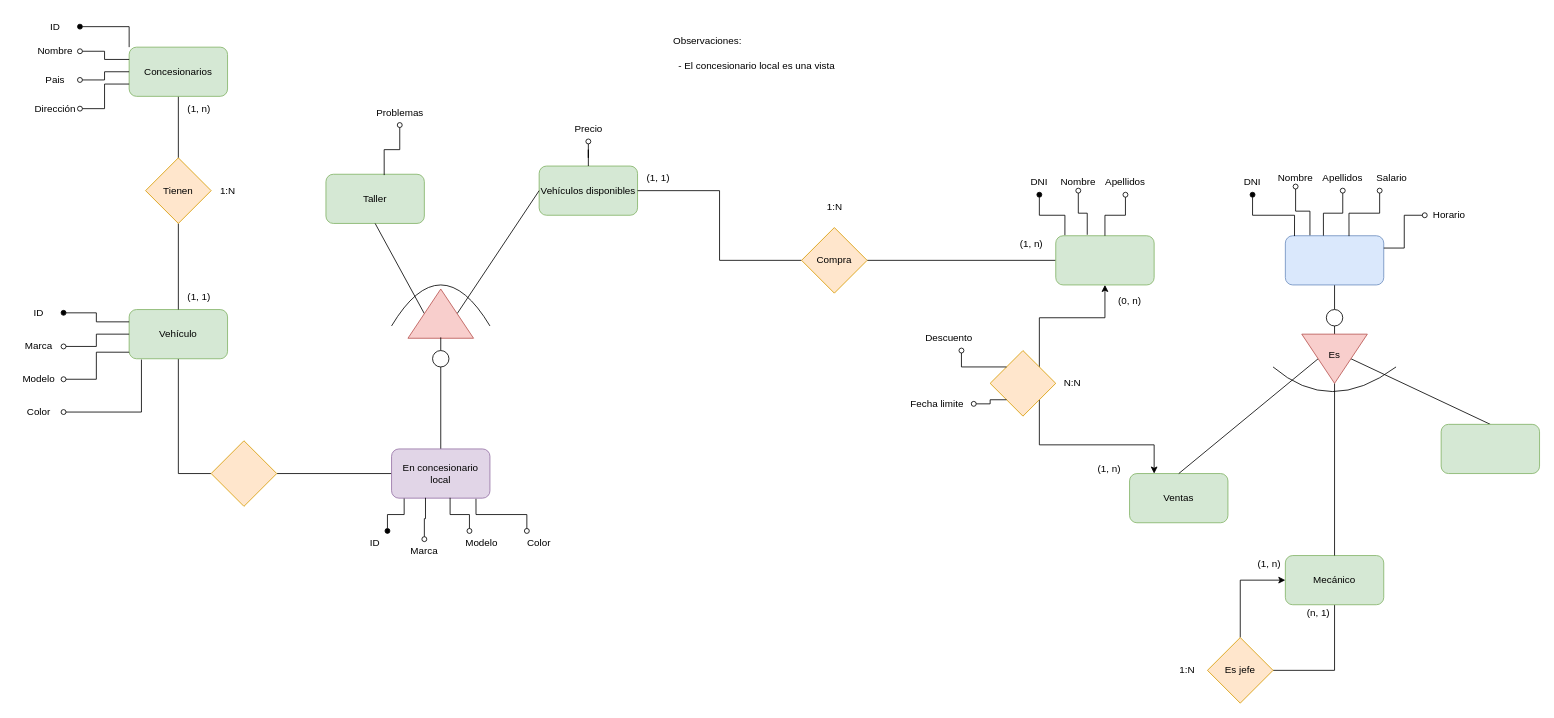
Image size: 1554x718. Some labels were removed from this diagram. Here are the shapes that lost their labels. From the top down, the box of each, then its label:
(1055, 235, 1154, 285): Cliente
(1285, 235, 1384, 285): Trabajador
(407, 288, 474, 338): Está en
(989, 350, 1056, 416): Propone
(1440, 424, 1540, 474): Jefe
(210, 440, 277, 506): Está
